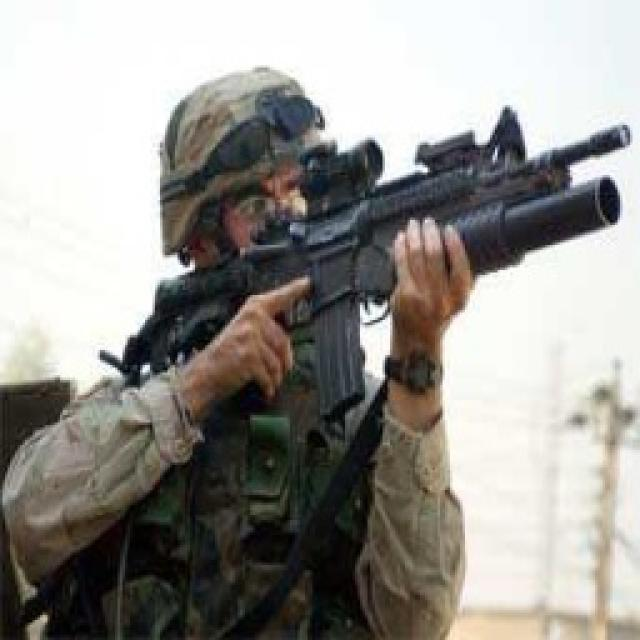long weapon: (118, 112, 640, 384)
